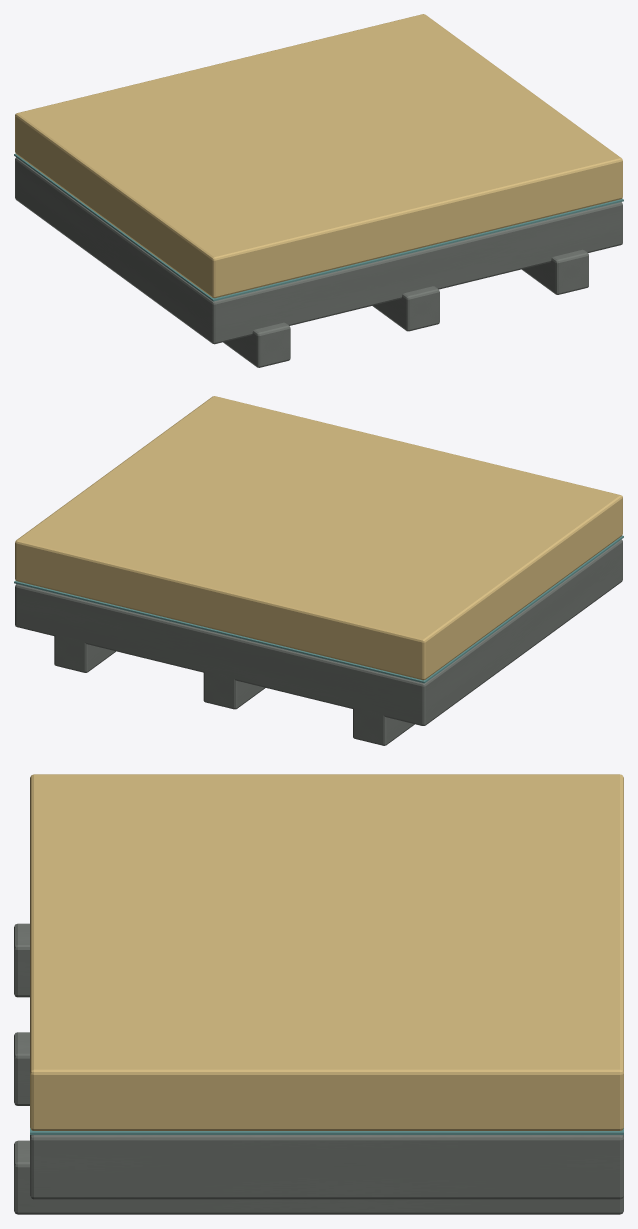
File: modell.glb
3 views of the same model, one above another, from view 1: azimuth 30°, elevation 25°; view 2: azimuth 150°, elevation 25°; view 3: azimuth 270°, elevation 25° (orthographic). The views are drawn at different scales.
Visible parts, largest first — view 1: g02-daemmung_daemmung, g02-untergrund_tragwerk, g02-unterlage_tragwerk, g02-luftdichtheit_luftdichtheit; view 2: g02-daemmung_daemmung, g02-untergrund_tragwerk, g02-unterlage_tragwerk, g02-luftdichtheit_luftdichtheit; view 3: g02-daemmung_daemmung, g02-untergrund_tragwerk, g02-unterlage_tragwerk, g02-luftdichtheit_luftdichtheit.
Part boxes in pixels (bbox=[...]): g02-daemmung_daemmung: bbox=[15, 14, 622, 298]; g02-untergrund_tragwerk: bbox=[15, 157, 622, 344]; g02-unterlage_tragwerk: bbox=[223, 249, 588, 367]; g02-luftdichtheit_luftdichtheit: bbox=[14, 153, 623, 301]; g02-daemmung_daemmung: bbox=[15, 396, 622, 680]; g02-untergrund_tragwerk: bbox=[15, 539, 622, 725]; g02-unterlage_tragwerk: bbox=[54, 634, 414, 745]; g02-luftdichtheit_luftdichtheit: bbox=[14, 535, 623, 683]; g02-daemmung_daemmung: bbox=[30, 774, 623, 1130]; g02-untergrund_tragwerk: bbox=[30, 1135, 623, 1199]; g02-unterlage_tragwerk: bbox=[14, 923, 623, 1214]; g02-luftdichtheit_luftdichtheit: bbox=[30, 1128, 623, 1134].
Bounding box in the file's own units: 2.2 × 0.595 × 1.9.
Materials: 3 (1 with a texture image).
